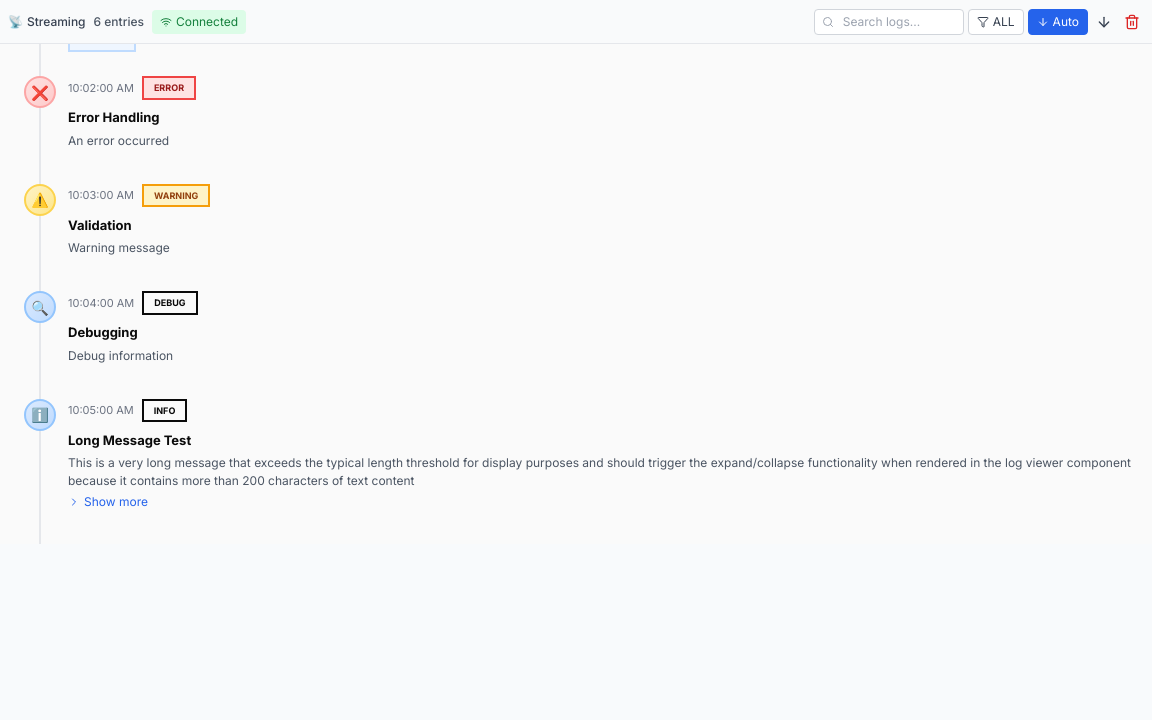
Test case: LiveLogsPanel Component › Long Messages › should expand/collapse long messages
The width and height of the screenshot is (1152, 720).
(page scrolled)
Click the button "Show more".
click(108, 502)  # box [68,494,148,510]
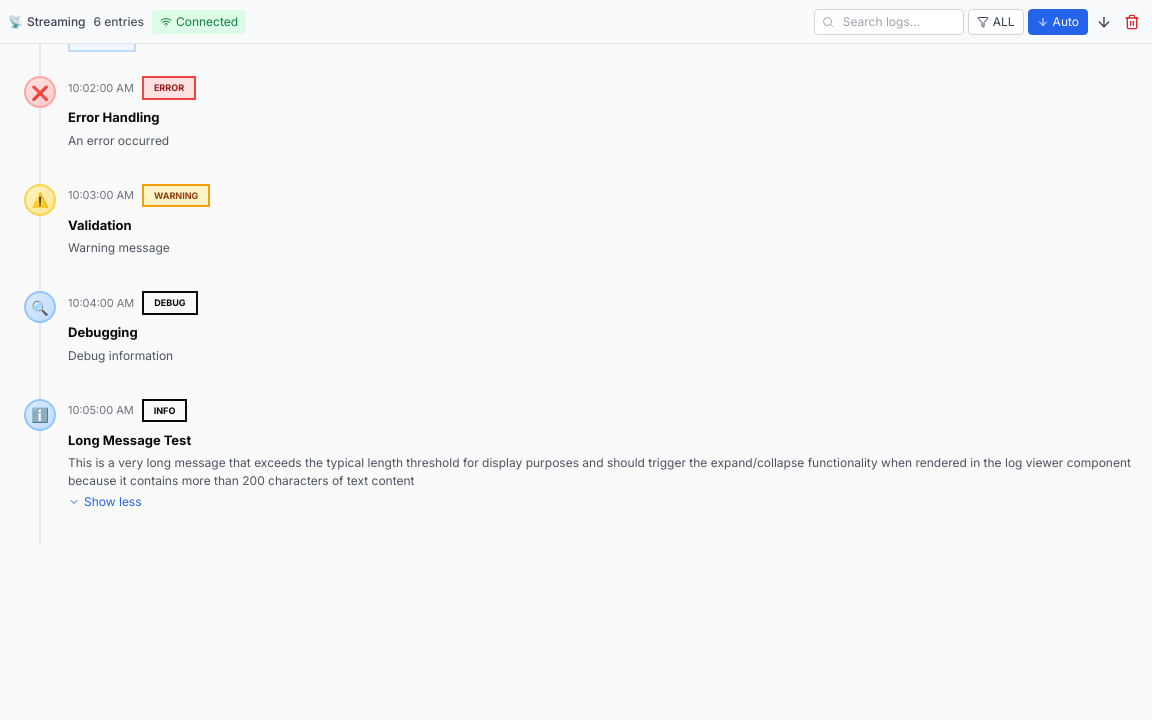
Check: the text "Show less" is shown, box [84,494,142,510]
Click the button "Show less".
click(105, 502)  # box [68,494,142,510]
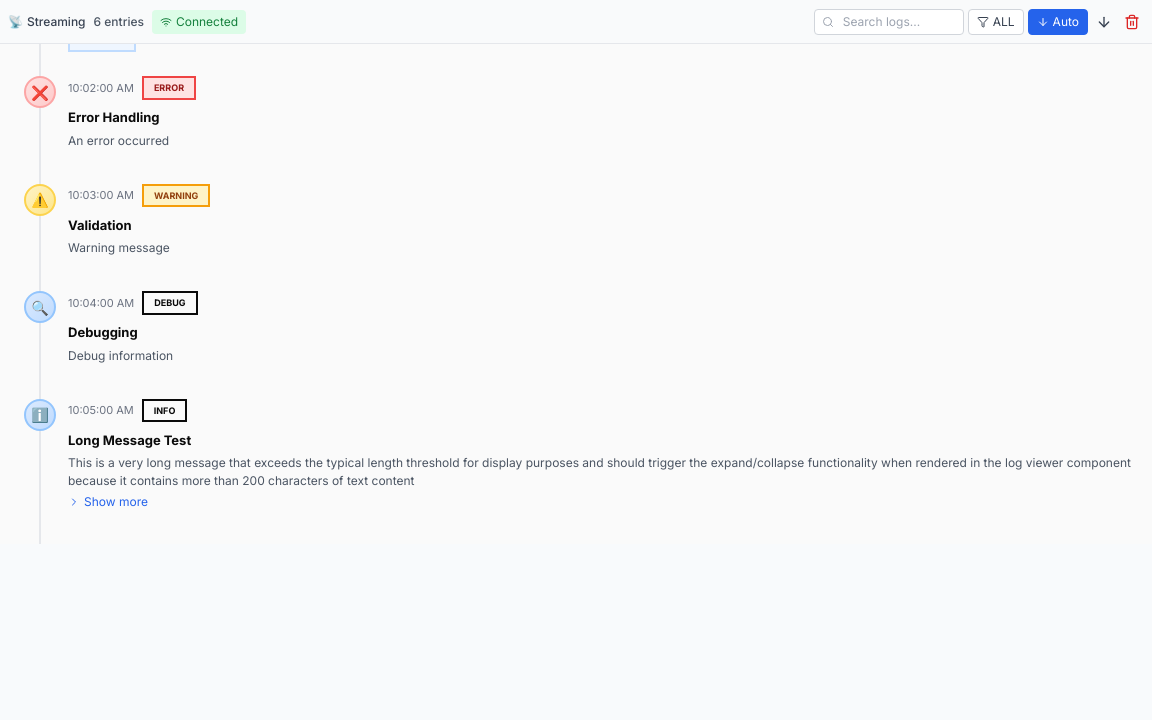
Check: the text "Show more" is shown, box [84,494,148,510]
